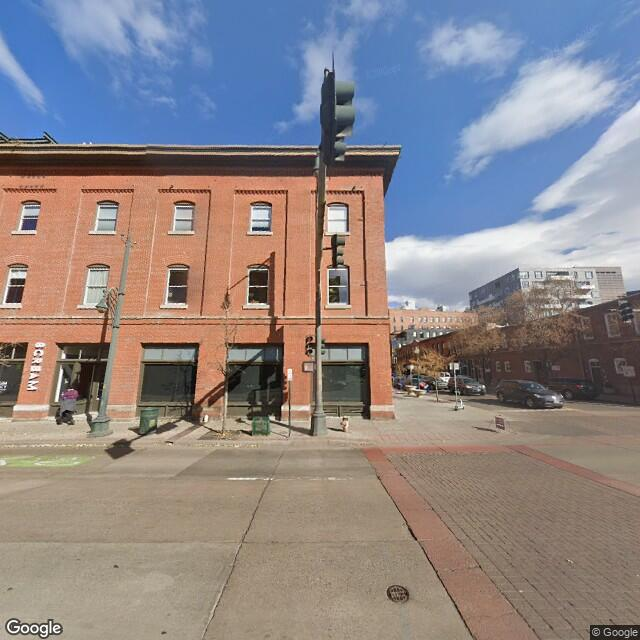fh: (336, 413, 355, 436)
